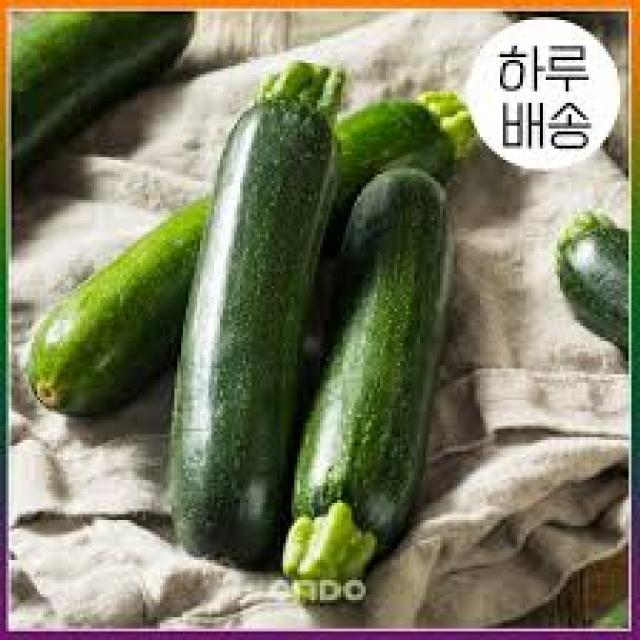Yogurt cup: (174, 63, 346, 570), (283, 169, 454, 581)
